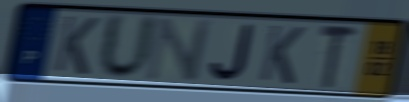J: (207, 22, 257, 83)
K: (256, 22, 307, 87), (51, 13, 101, 77)
N: (143, 16, 215, 82)
T: (318, 22, 360, 91)
U: (96, 11, 160, 83)
